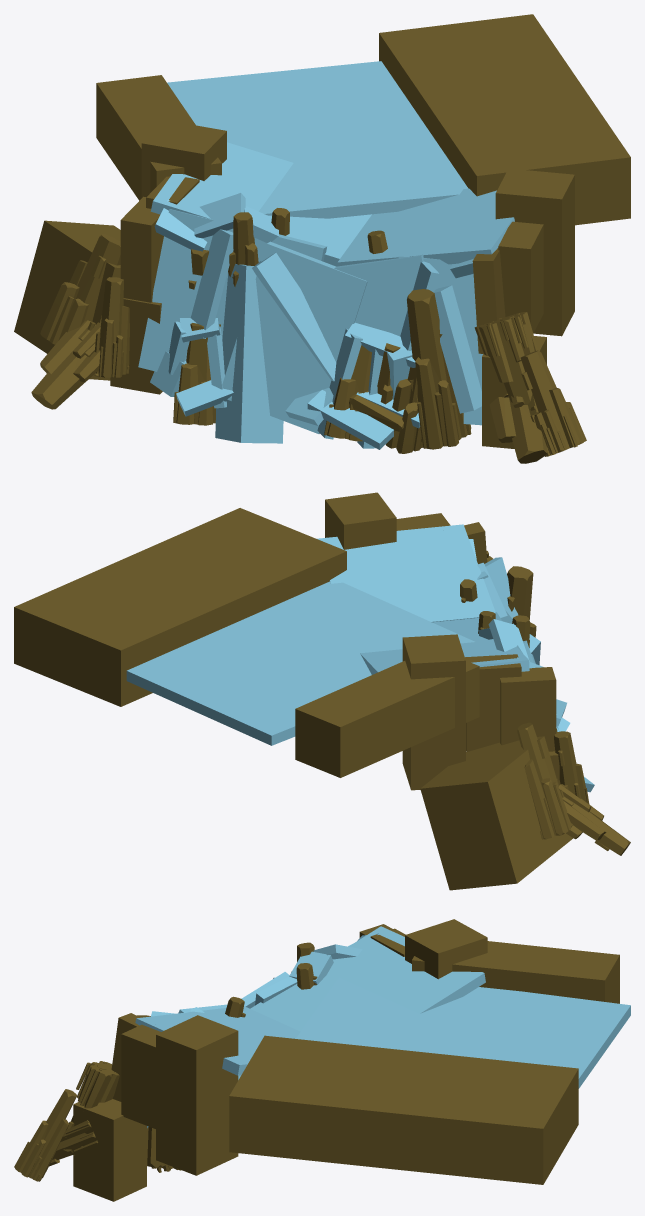
File: WaterFallMain.fbx
3 renders of one model, top to bottom at view 1: azimuth 30°, elevation 25°; view 2: azimuth 150°, elevation 25°; view 3: azimuth 270°, elevation 25°, orthographic. The views are drawn at different scales.
Visible parts, largest first — view 1: WaterFallMain_Merged; view 2: WaterFallMain_Merged; view 3: WaterFallMain_Merged.
Part boxes in pixels (box(x1,y1,x2,y2)): WaterFallMain_Merged: box(14, 14, 630, 463); WaterFallMain_Merged: box(14, 492, 630, 890); WaterFallMain_Merged: box(14, 919, 630, 1201).
Bounding box in the file's own units: 4857 × 1807 × 4866.
